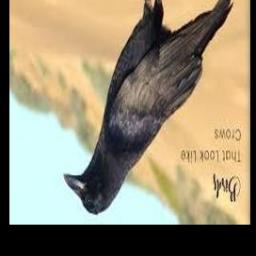Crow: (64, 0, 240, 216)
